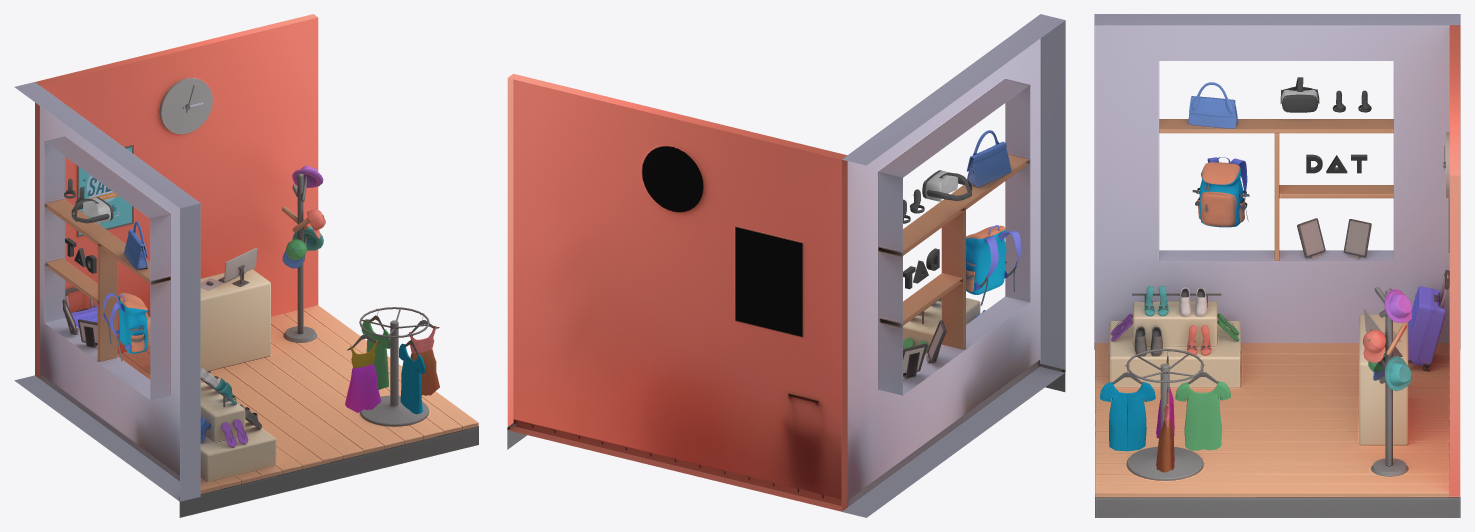
Rendered from MiniShop.glb.
3 renders of one model, left to right at view 1: azimuth 30°, elevation 25°; view 2: azimuth 150°, elevation 25°; view 3: azimuth 270°, elevation 25°, orthographic. The views are drawn at different scales.
Visible parts, largest first — view 1: Wall, Dress_Rotate, Shoe_Caps, Case_PC, Bag, VRHeadset, HandBag; view 2: Wall, Bag, HandBag, VRHeadset, Case_PC; view 3: Wall, Dress_Rotate, Shoe_Caps, Case_PC, Bag, HandBag, VRHeadset.
Boxes of the visible parts, x1=… form: Wall: x1=14, y1=14, x2=478, y2=517; Dress_Rotate: x1=345, y1=307, x2=439, y2=414; Shoe_Caps: x1=200, y1=165, x2=325, y2=447; Case_PC: x1=62, y1=247, x2=257, y2=347; Bag: x1=103, y1=292, x2=150, y2=361; VRHeadset: x1=71, y1=197, x2=113, y2=223; HandBag: x1=124, y1=221, x2=148, y2=270; Wall: x1=507, y1=14, x2=1065, y2=517; Bag: x1=966, y1=225, x2=1021, y2=305; HandBag: x1=966, y1=130, x2=1011, y2=187; VRHeadset: x1=922, y1=170, x2=972, y2=201; Case_PC: x1=903, y1=320, x2=946, y2=379; Wall: x1=1094, y1=14, x2=1460, y2=517; Dress_Rotate: x1=1100, y1=348, x2=1230, y2=472; Shoe_Caps: x1=1110, y1=286, x2=1412, y2=391; Case_PC: x1=1297, y1=218, x2=1449, y2=371; Bag: x1=1192, y1=157, x2=1249, y2=227; HandBag: x1=1188, y1=82, x2=1238, y2=128; VRHeadset: x1=1280, y1=77, x2=1319, y2=112.
Bounding box in the file's own units: 3.02 × 2.84 × 2.75.
Materials: 9 (7 with a texture image).
